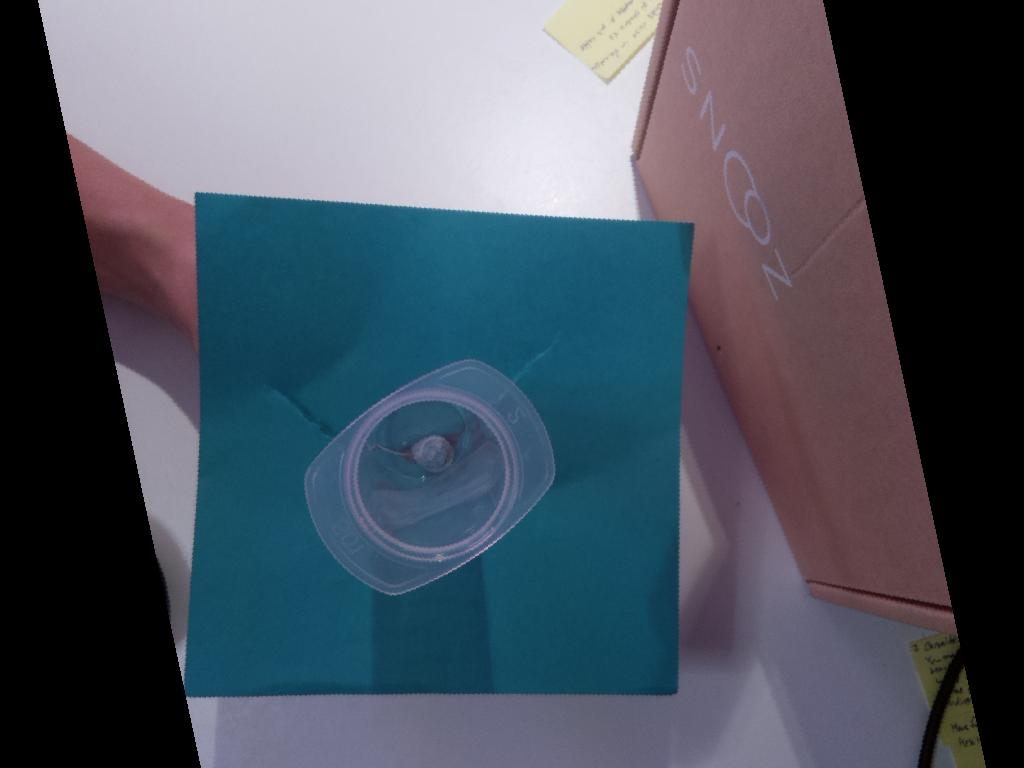clean: (302, 358, 558, 597)
